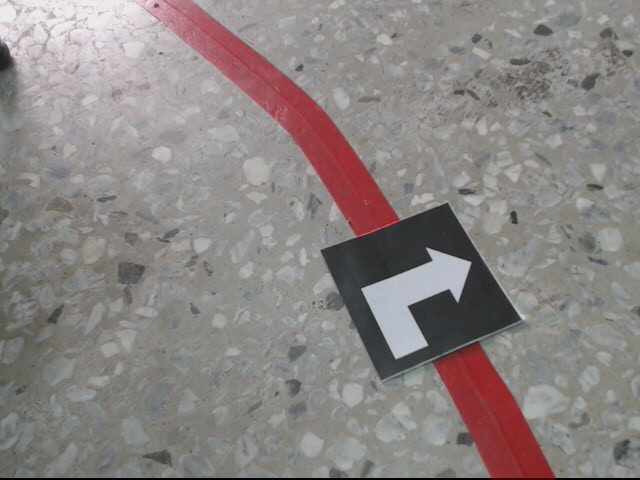right: (321, 199, 523, 382)
